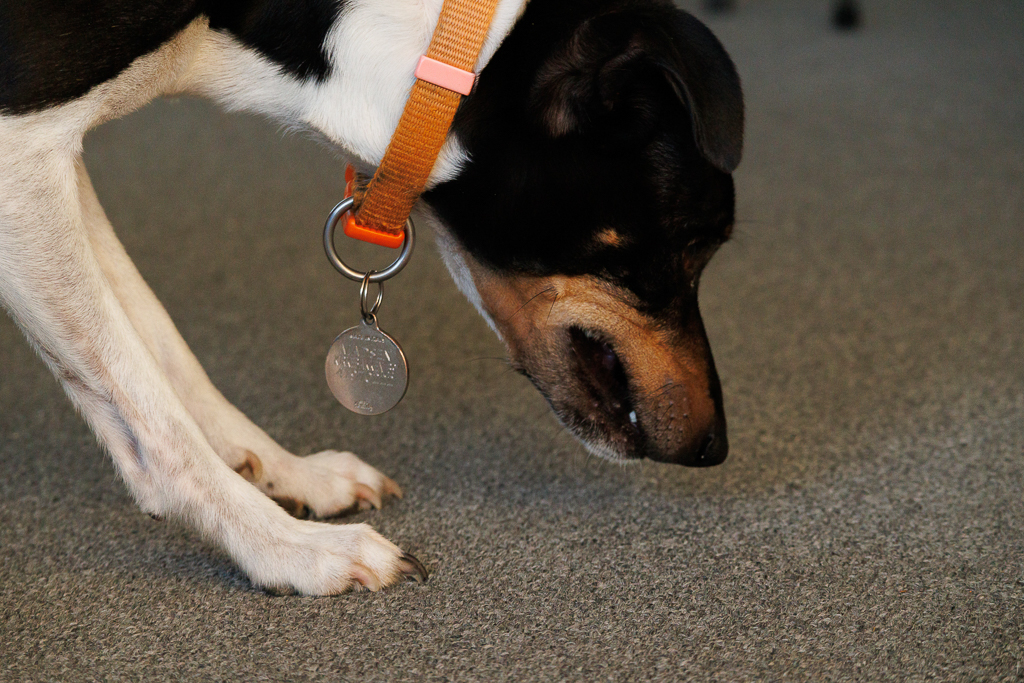Dog: (0, 0, 757, 608)
